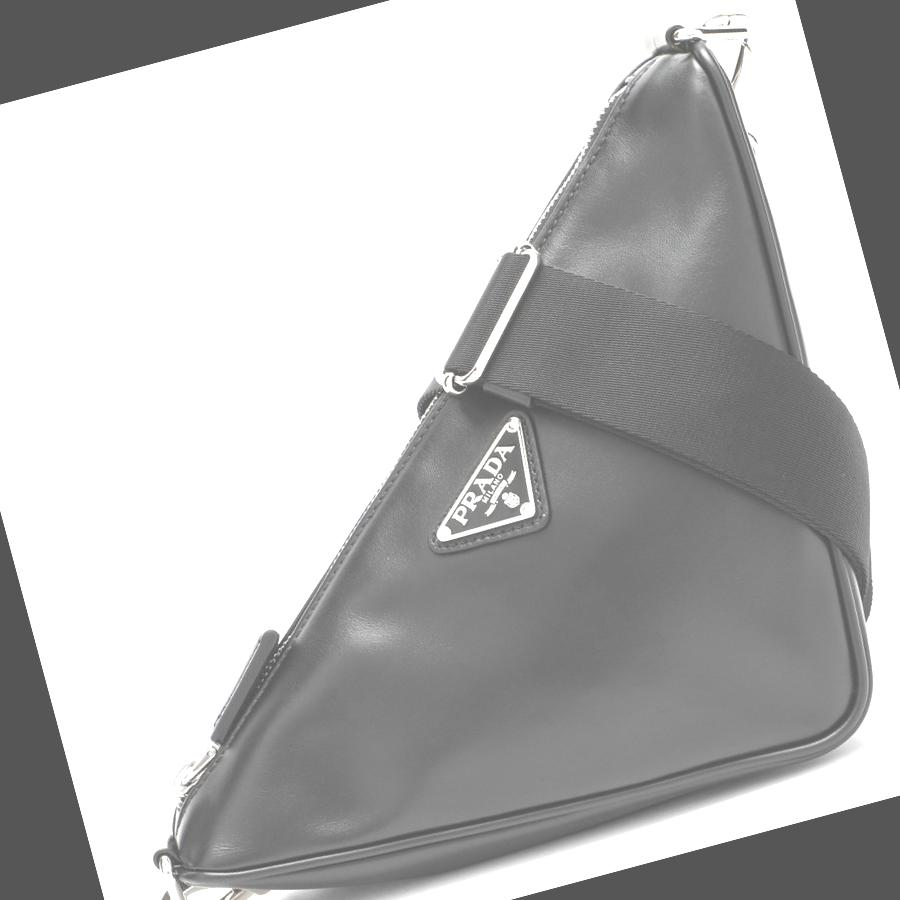PRADA: (413, 416, 546, 547)
